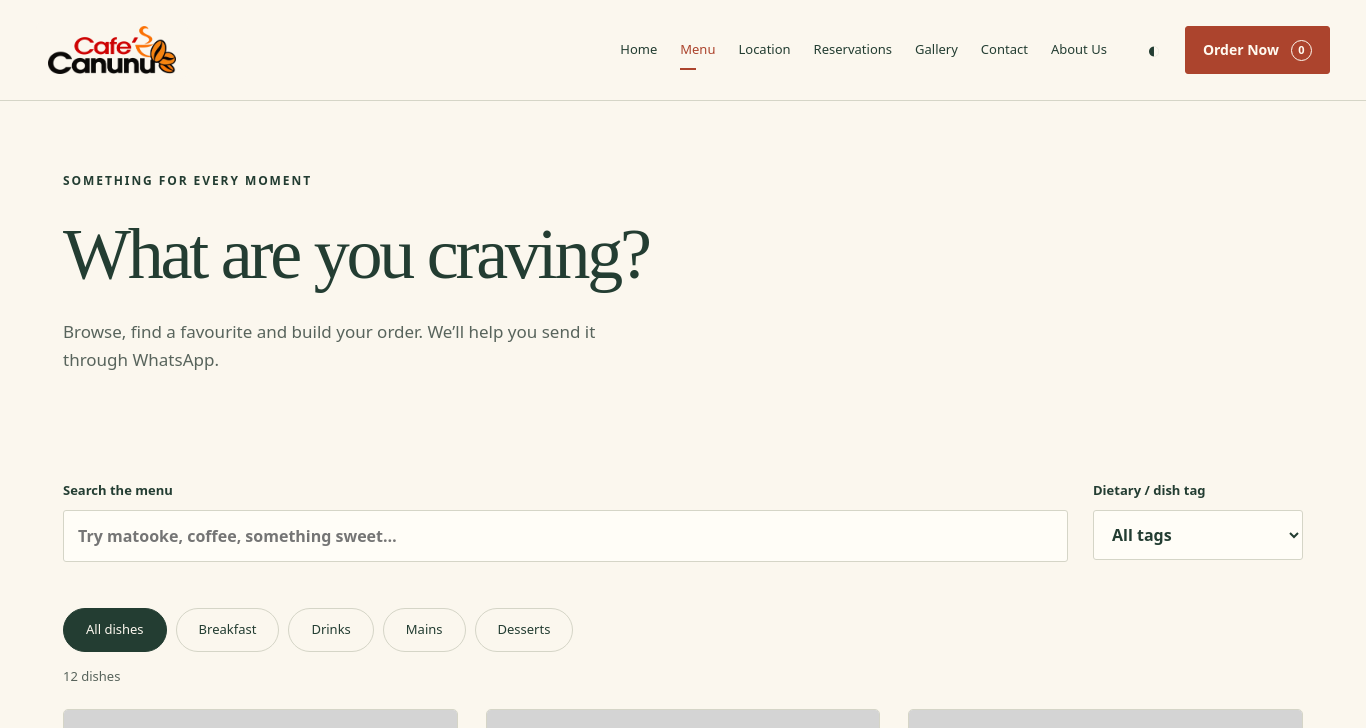
Test: menu search filters dishes and the cart count updates
Step 1. Type "coffee" into the search field with placeholder "Try matooke, coffee, something sweet…" → (566, 536), box x1=63 y1=510 x2=1068 y2=562
(page scrolled)
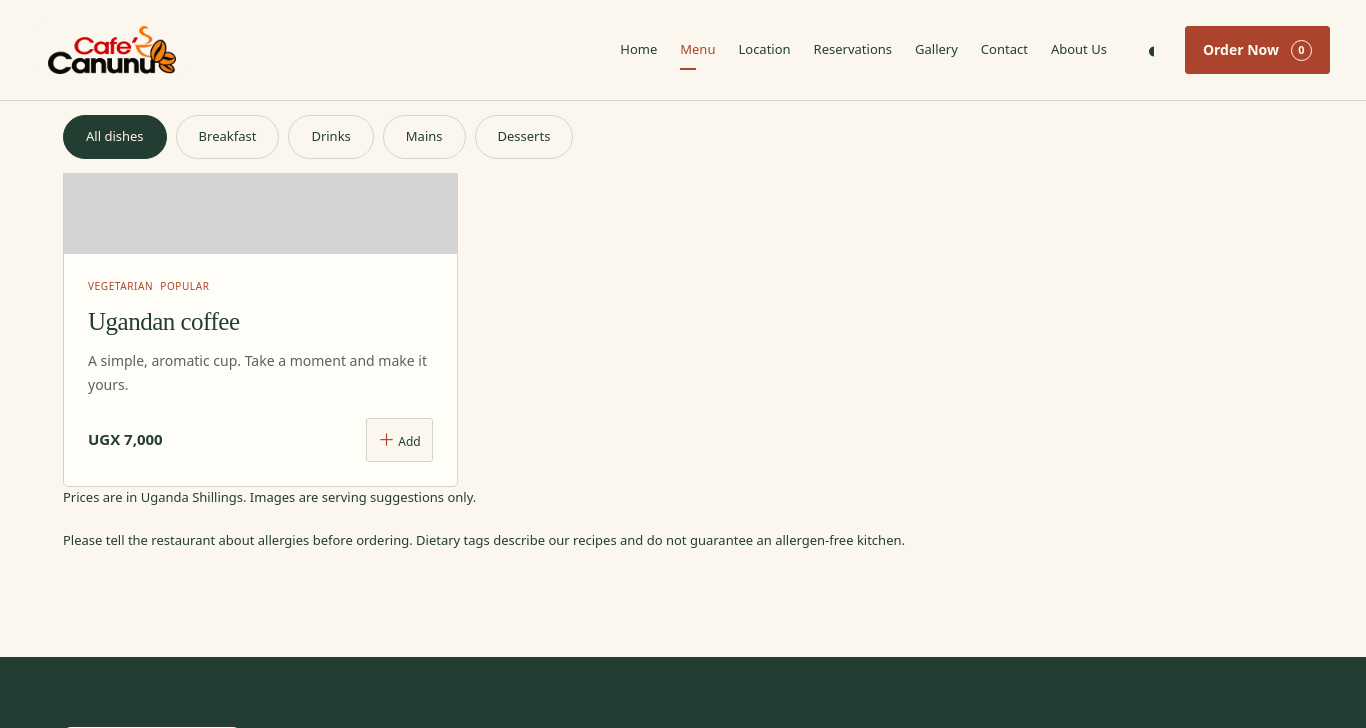
Step 2. Click the button with aria-label "Add Ugandan coffee" → (399, 440), box x1=366 y1=418 x2=433 y2=462
(page scrolled)
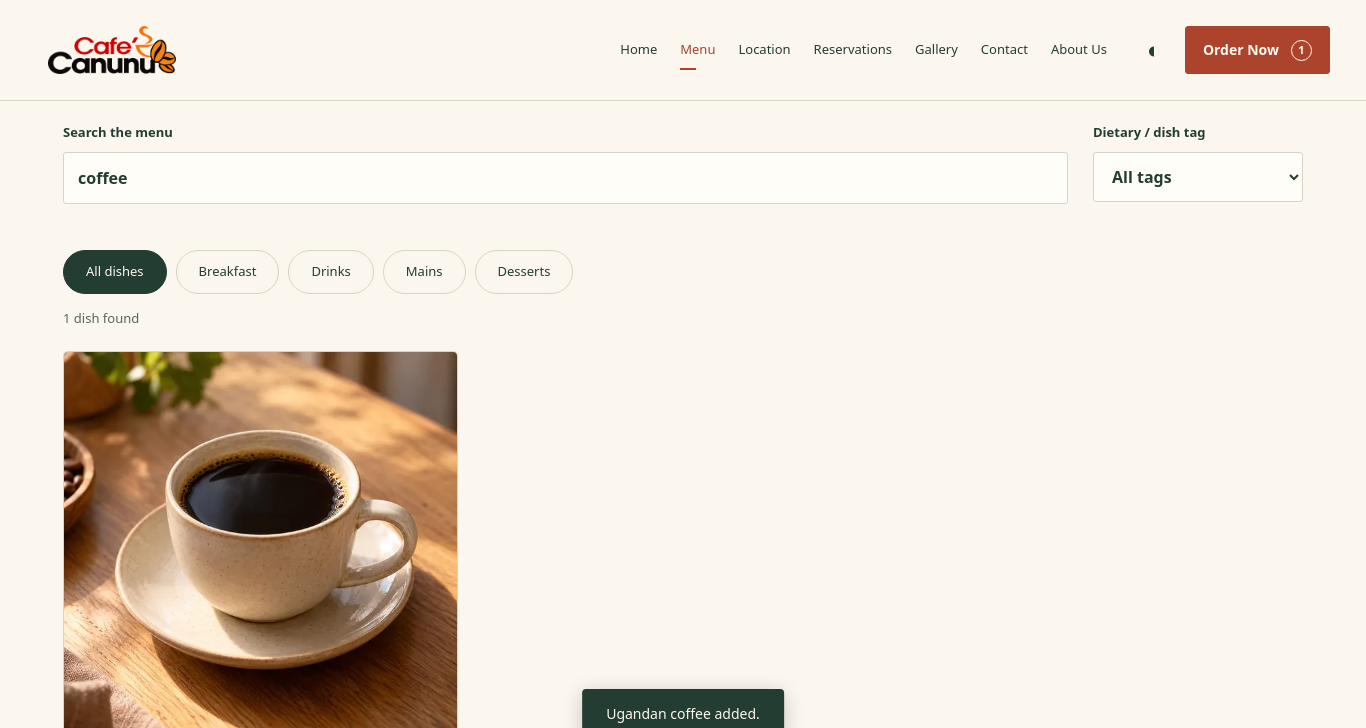
expect the text with class "cart-count" reads "1": met, box x1=1298 y1=42 x2=1305 y2=57
